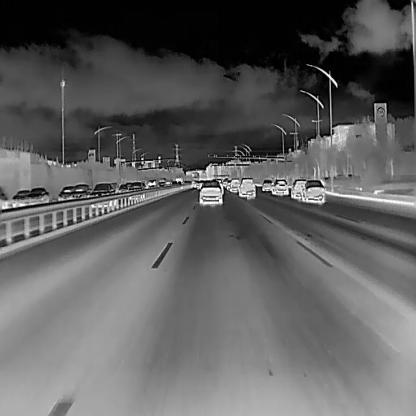bus: (146, 177, 156, 191)
car: (298, 179, 325, 204), (197, 180, 222, 204), (26, 185, 50, 208), (92, 181, 115, 204), (68, 183, 91, 204), (11, 188, 31, 210), (237, 177, 256, 199), (289, 178, 309, 198), (271, 177, 289, 196), (57, 184, 74, 204), (128, 181, 145, 195), (260, 178, 274, 192), (115, 183, 128, 197), (228, 177, 240, 192), (156, 176, 166, 187), (189, 180, 198, 188), (170, 179, 178, 187)
truck: (173, 174, 184, 186)
